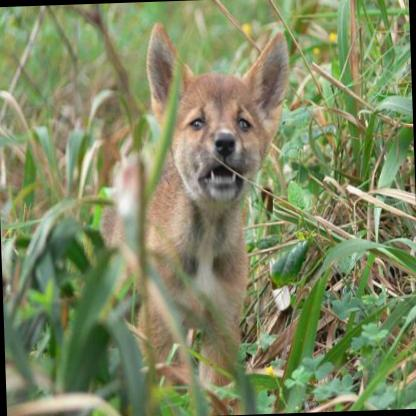dingo: (88, 15, 302, 414)
